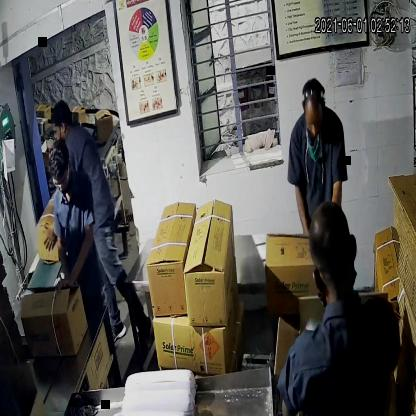goggles: (48, 166, 73, 192)
